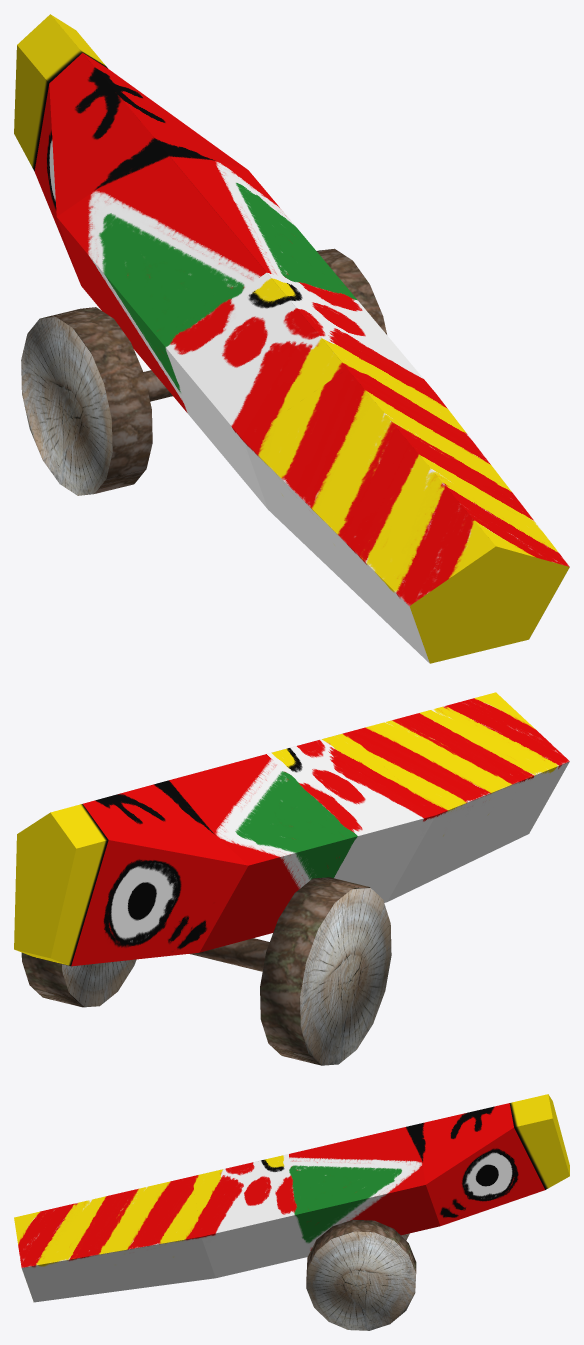
File: kijiuma.fbx
3 views of the same model, one above another, from view 1: azimuth 30°, elevation 25°; view 2: azimuth 150°, elevation 25°; view 3: azimuth 270°, elevation 25° (orthographic). The views are drawn at different scales.
Parts seen in each view (by area): view 1: body, Cylinder; view 2: body, Cylinder; view 3: body, Cylinder.
Part boxes in pixels (bbox=[...]): body: bbox=[14, 14, 569, 663]; Cylinder: bbox=[21, 248, 386, 495]; body: bbox=[14, 692, 569, 966]; Cylinder: bbox=[21, 877, 391, 1065]; body: bbox=[14, 1094, 569, 1302]; Cylinder: bbox=[306, 1219, 416, 1330].
Size of the model in its own units: 1.05 by 1.18 by 3.02.
